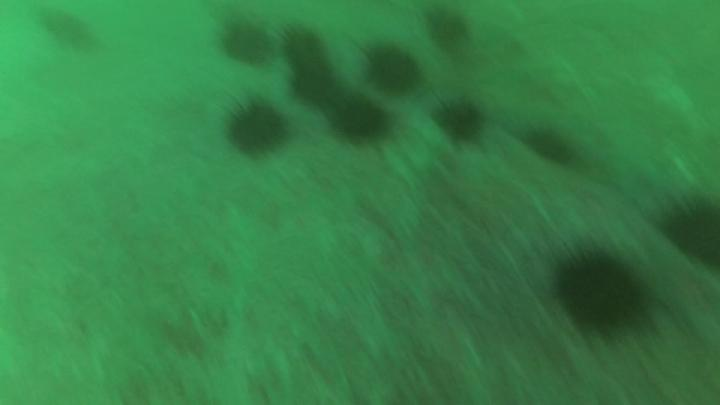echinus: (558, 254, 641, 331), (665, 215, 720, 269), (227, 108, 281, 155), (367, 48, 419, 93), (334, 99, 388, 138), (436, 98, 479, 144), (226, 27, 273, 65), (292, 64, 337, 102), (523, 130, 569, 161), (284, 33, 327, 65), (430, 12, 464, 47)
